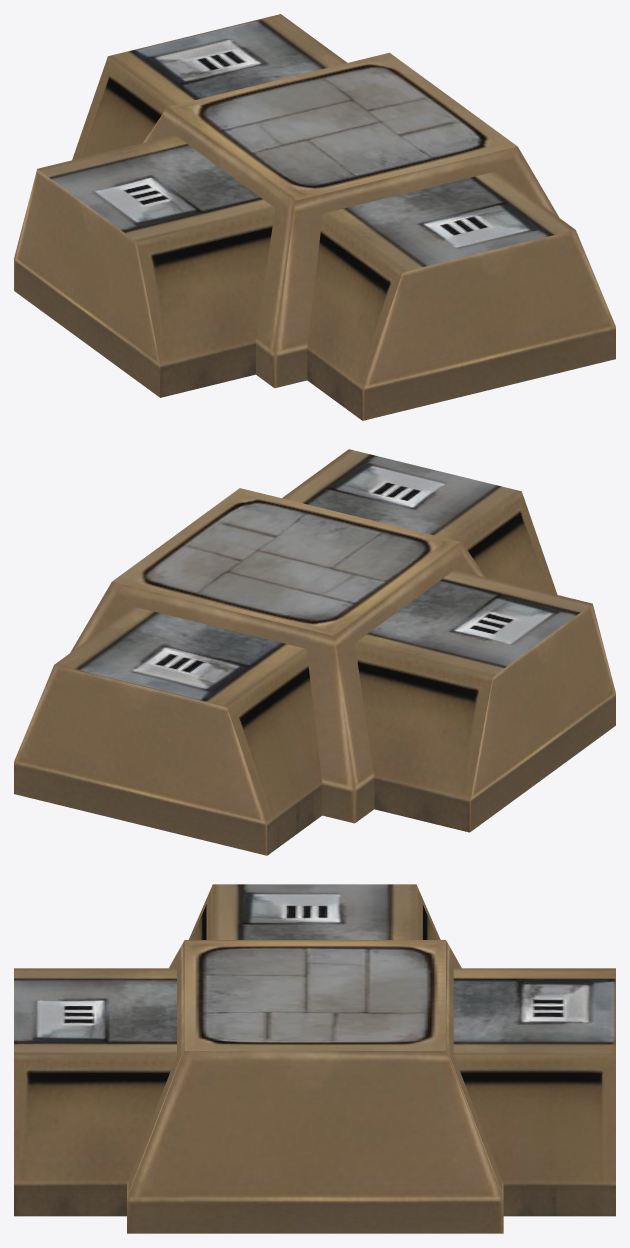
File: hpg_threeway_hdtex.glb
3 renders of one model, top to bottom at view 1: azimuth 30°, elevation 25°; view 2: azimuth 150°, elevation 25°; view 3: azimuth 270°, elevation 25°, orthographic. The views are drawn at different scales.
Visible parts, largest first — view 1: halfie; view 2: halfie; view 3: halfie.
Part boxes in pixels (left/top/right/bottom): halfie: left=14, top=14, right=615, bottom=420; halfie: left=14, top=449, right=615, bottom=855; halfie: left=14, top=884, right=615, bottom=1233.
Bounding box in the file's own units: 20.87 × 7.44 × 25.63.
2 materials, 2 textured.
